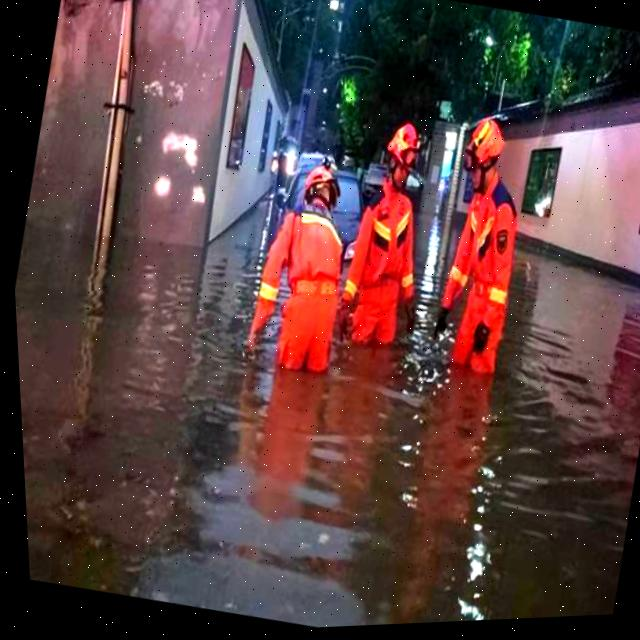rescuer: (396, 106, 557, 394), (215, 145, 382, 401), (305, 104, 452, 387)
